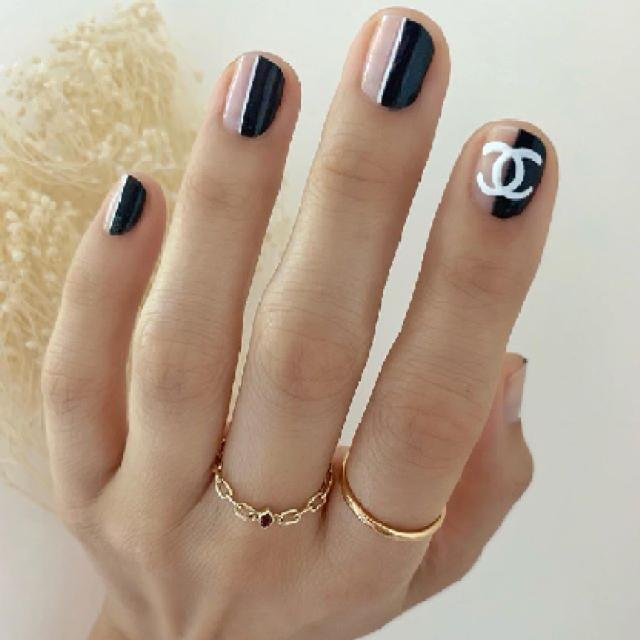Nail: (471, 124, 548, 219), (361, 14, 435, 109), (222, 52, 285, 137), (104, 175, 146, 235), (504, 359, 522, 424)
